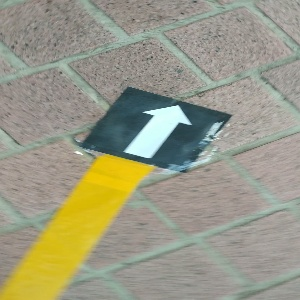straight: (81, 86, 232, 172)
